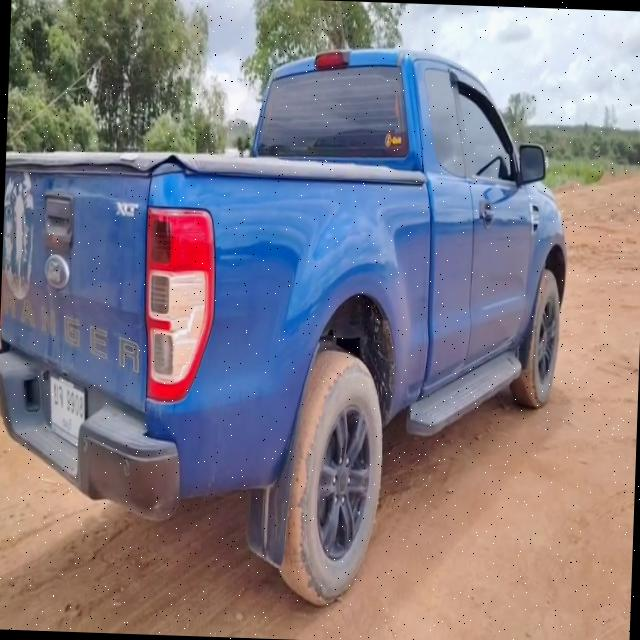Digit: (64, 387, 84, 419)
Licenseplate: (48, 372, 86, 451)
Provincename: (61, 414, 72, 432)
Thaichar: (53, 382, 63, 406)
